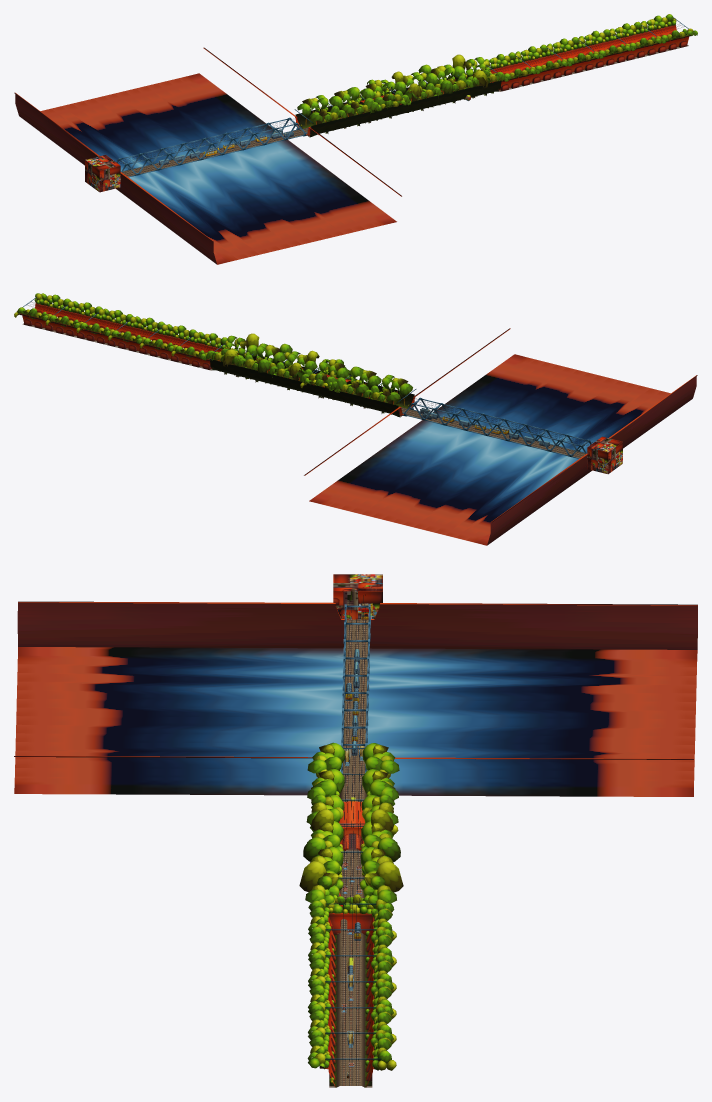
File: SubWaySurf.fbx
3 renders of one model, top to bottom at view 1: azimuth 30°, elevation 25°; view 2: azimuth 150°, elevation 25°; view 3: azimuth 270°, elevation 25°, orthographic. The views are drawn at different scales.
Visible parts, largest first — view 1: StaticMeshActor_247, StaticMeshActor_256, StaticMeshActor_237, StaticMeshActor_236, StaticMeshActor_238, StaticMeshActor_248; view 2: StaticMeshActor_247, StaticMeshActor_256, StaticMeshActor_237, StaticMeshActor_236, StaticMeshActor_238, StaticMeshActor_248; view 3: StaticMeshActor_247, StaticMeshActor_256, StaticMeshActor_237, StaticMeshActor_236, StaticMeshActor_238, StaticMeshActor_248, StaticMeshActor_280, StaticMeshActor_260.
Boxes of the visible parts, <box> form: StaticMeshActor_247: <box>14,47,401,264</box>; StaticMeshActor_256: <box>295,54,508,137</box>; StaticMeshActor_237: <box>609,14,697,61</box>; StaticMeshActor_236: <box>547,29,635,76</box>; StaticMeshActor_238: <box>484,44,571,91</box>; StaticMeshActor_248: <box>85,155,120,192</box>; StaticMeshActor_247: <box>304,328,697,545</box>; StaticMeshActor_256: <box>202,333,415,417</box>; StaticMeshActor_237: <box>14,293,102,339</box>; StaticMeshActor_236: <box>76,308,164,354</box>; StaticMeshActor_238: <box>139,324,227,370</box>; StaticMeshActor_248: <box>587,436,622,474</box>; StaticMeshActor_247: <box>14,594,697,796</box>; StaticMeshActor_256: <box>299,742,403,930</box>; StaticMeshActor_237: <box>307,1003,396,1087</box>; StaticMeshActor_236: <box>308,952,396,1036</box>; StaticMeshActor_238: <box>308,900,396,984</box>; StaticMeshActor_248: <box>333,574,382,619</box>; StaticMeshActor_280: <box>327,894,373,934</box>; StaticMeshActor_260: <box>310,796,398,850</box>.
Bounding box in the file's own units: 36293 × 2562 × 21557.
Materials: 7 (7 with a texture image).
